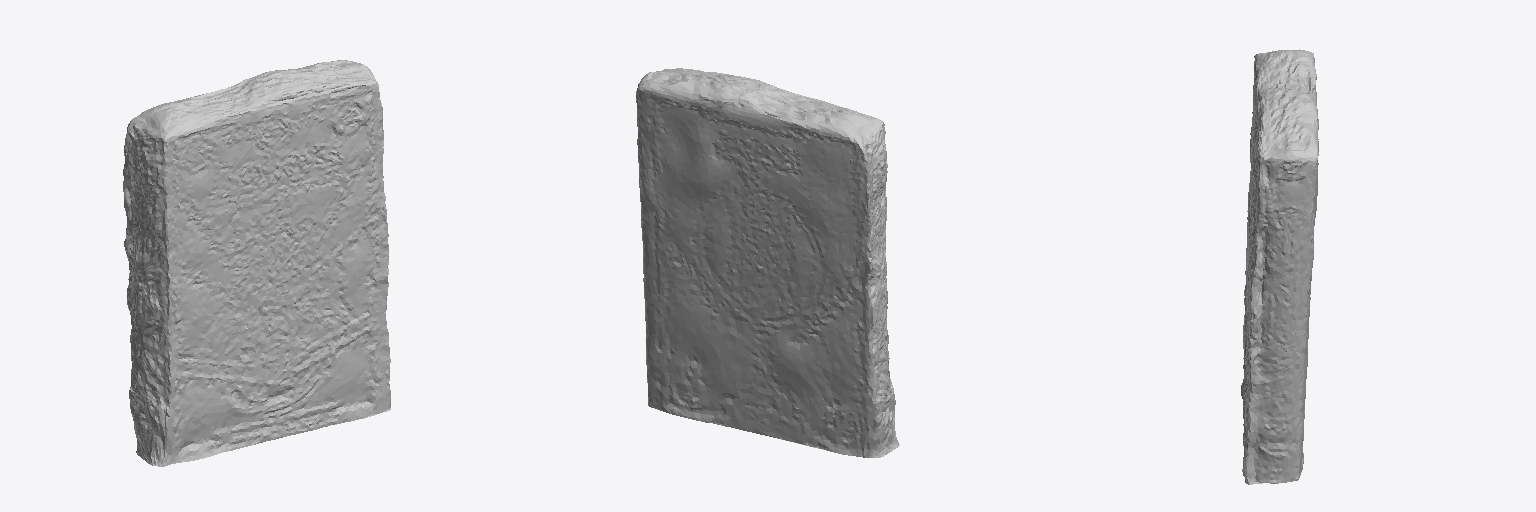
The model's file is JoJo Book 1.obj.
3 renders of one model, left to right at view 1: azimuth 30°, elevation 25°; view 2: azimuth 150°, elevation 25°; view 3: azimuth 270°, elevation 25°, orthographic.
Parts seen in each view (by area): view 1: poly; view 2: poly; view 3: poly.
Part boxes in pixels (x1,y1,x2,y2): poly: (123,60,390,466); poly: (636,68,899,457); poly: (1241,49,1318,484).
Bounding box in the file's own units: 2.24 × 3.05 × 0.6373.